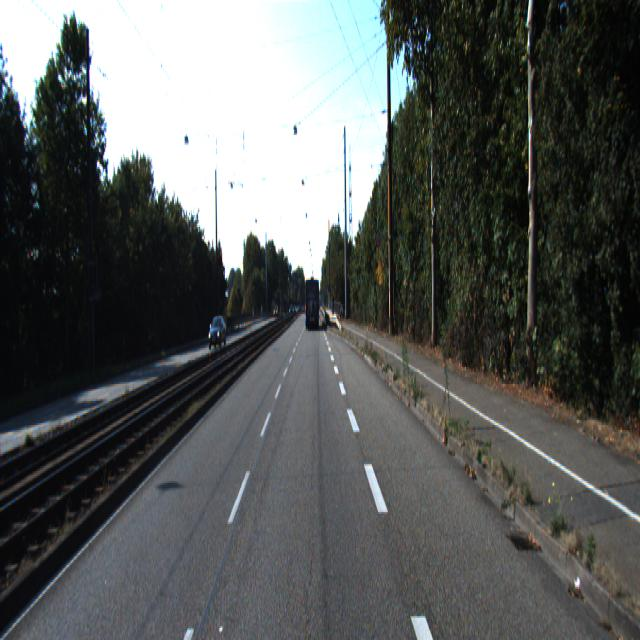Car: (305, 276, 320, 330), (207, 316, 227, 350)
